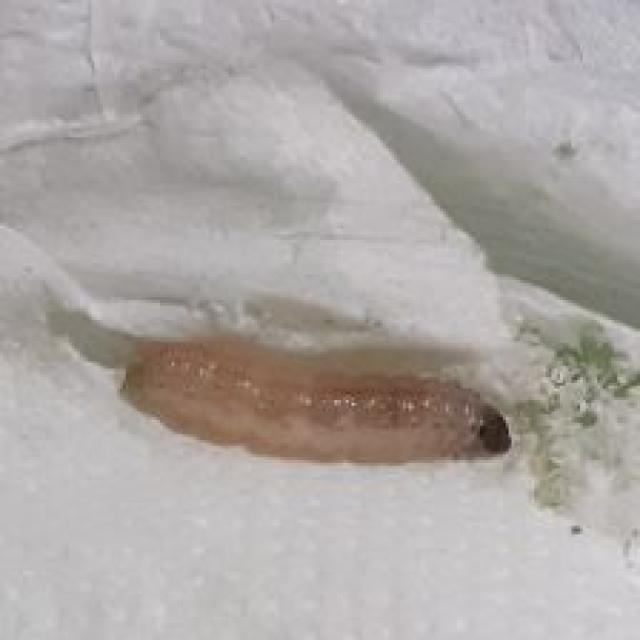white mucus: (106, 329, 531, 477)
